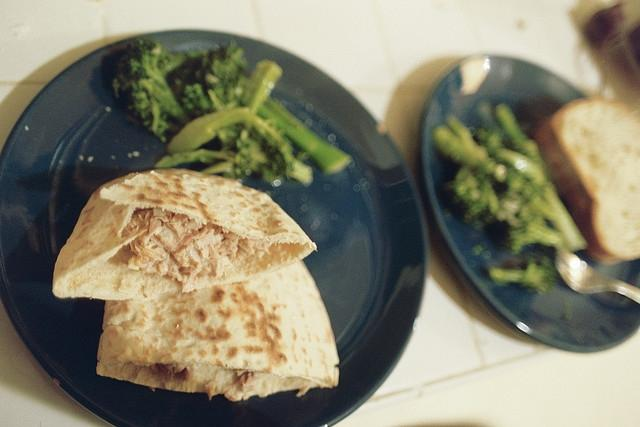broccoli: (237, 58, 351, 172), (102, 37, 190, 142), (154, 120, 292, 186), (432, 113, 509, 183), (442, 168, 502, 229), (509, 202, 570, 258), (488, 256, 556, 295), (504, 164, 544, 200), (498, 194, 524, 228)
